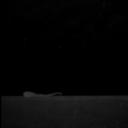fish: (21, 92, 61, 98)
